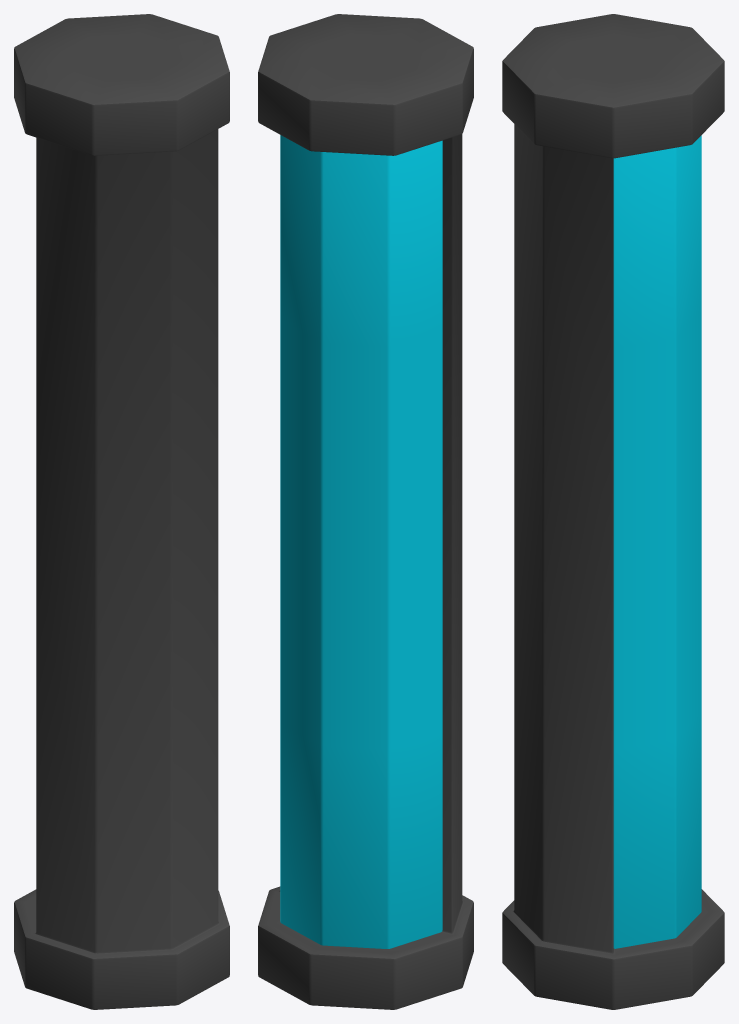
The model's file is LampWall.fbx.
The picture shows the model from 3 angles, left to right: view 1: azimuth 30°, elevation 25°; view 2: azimuth 150°, elevation 25°; view 3: azimuth 270°, elevation 25°; orthographic projection.
Visible parts, largest first — view 1: WallLamp; view 2: WallLamp; view 3: WallLamp.
Part boxes in pixels (bbox=[...]): WallLamp: bbox=[14, 14, 229, 1009]; WallLamp: bbox=[258, 14, 473, 1009]; WallLamp: bbox=[502, 14, 724, 1009].
Bounding box in the file's own units: 4.95 × 22.16 × 4.95.
